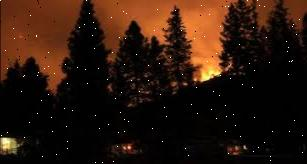fire: (194, 62, 224, 86)
